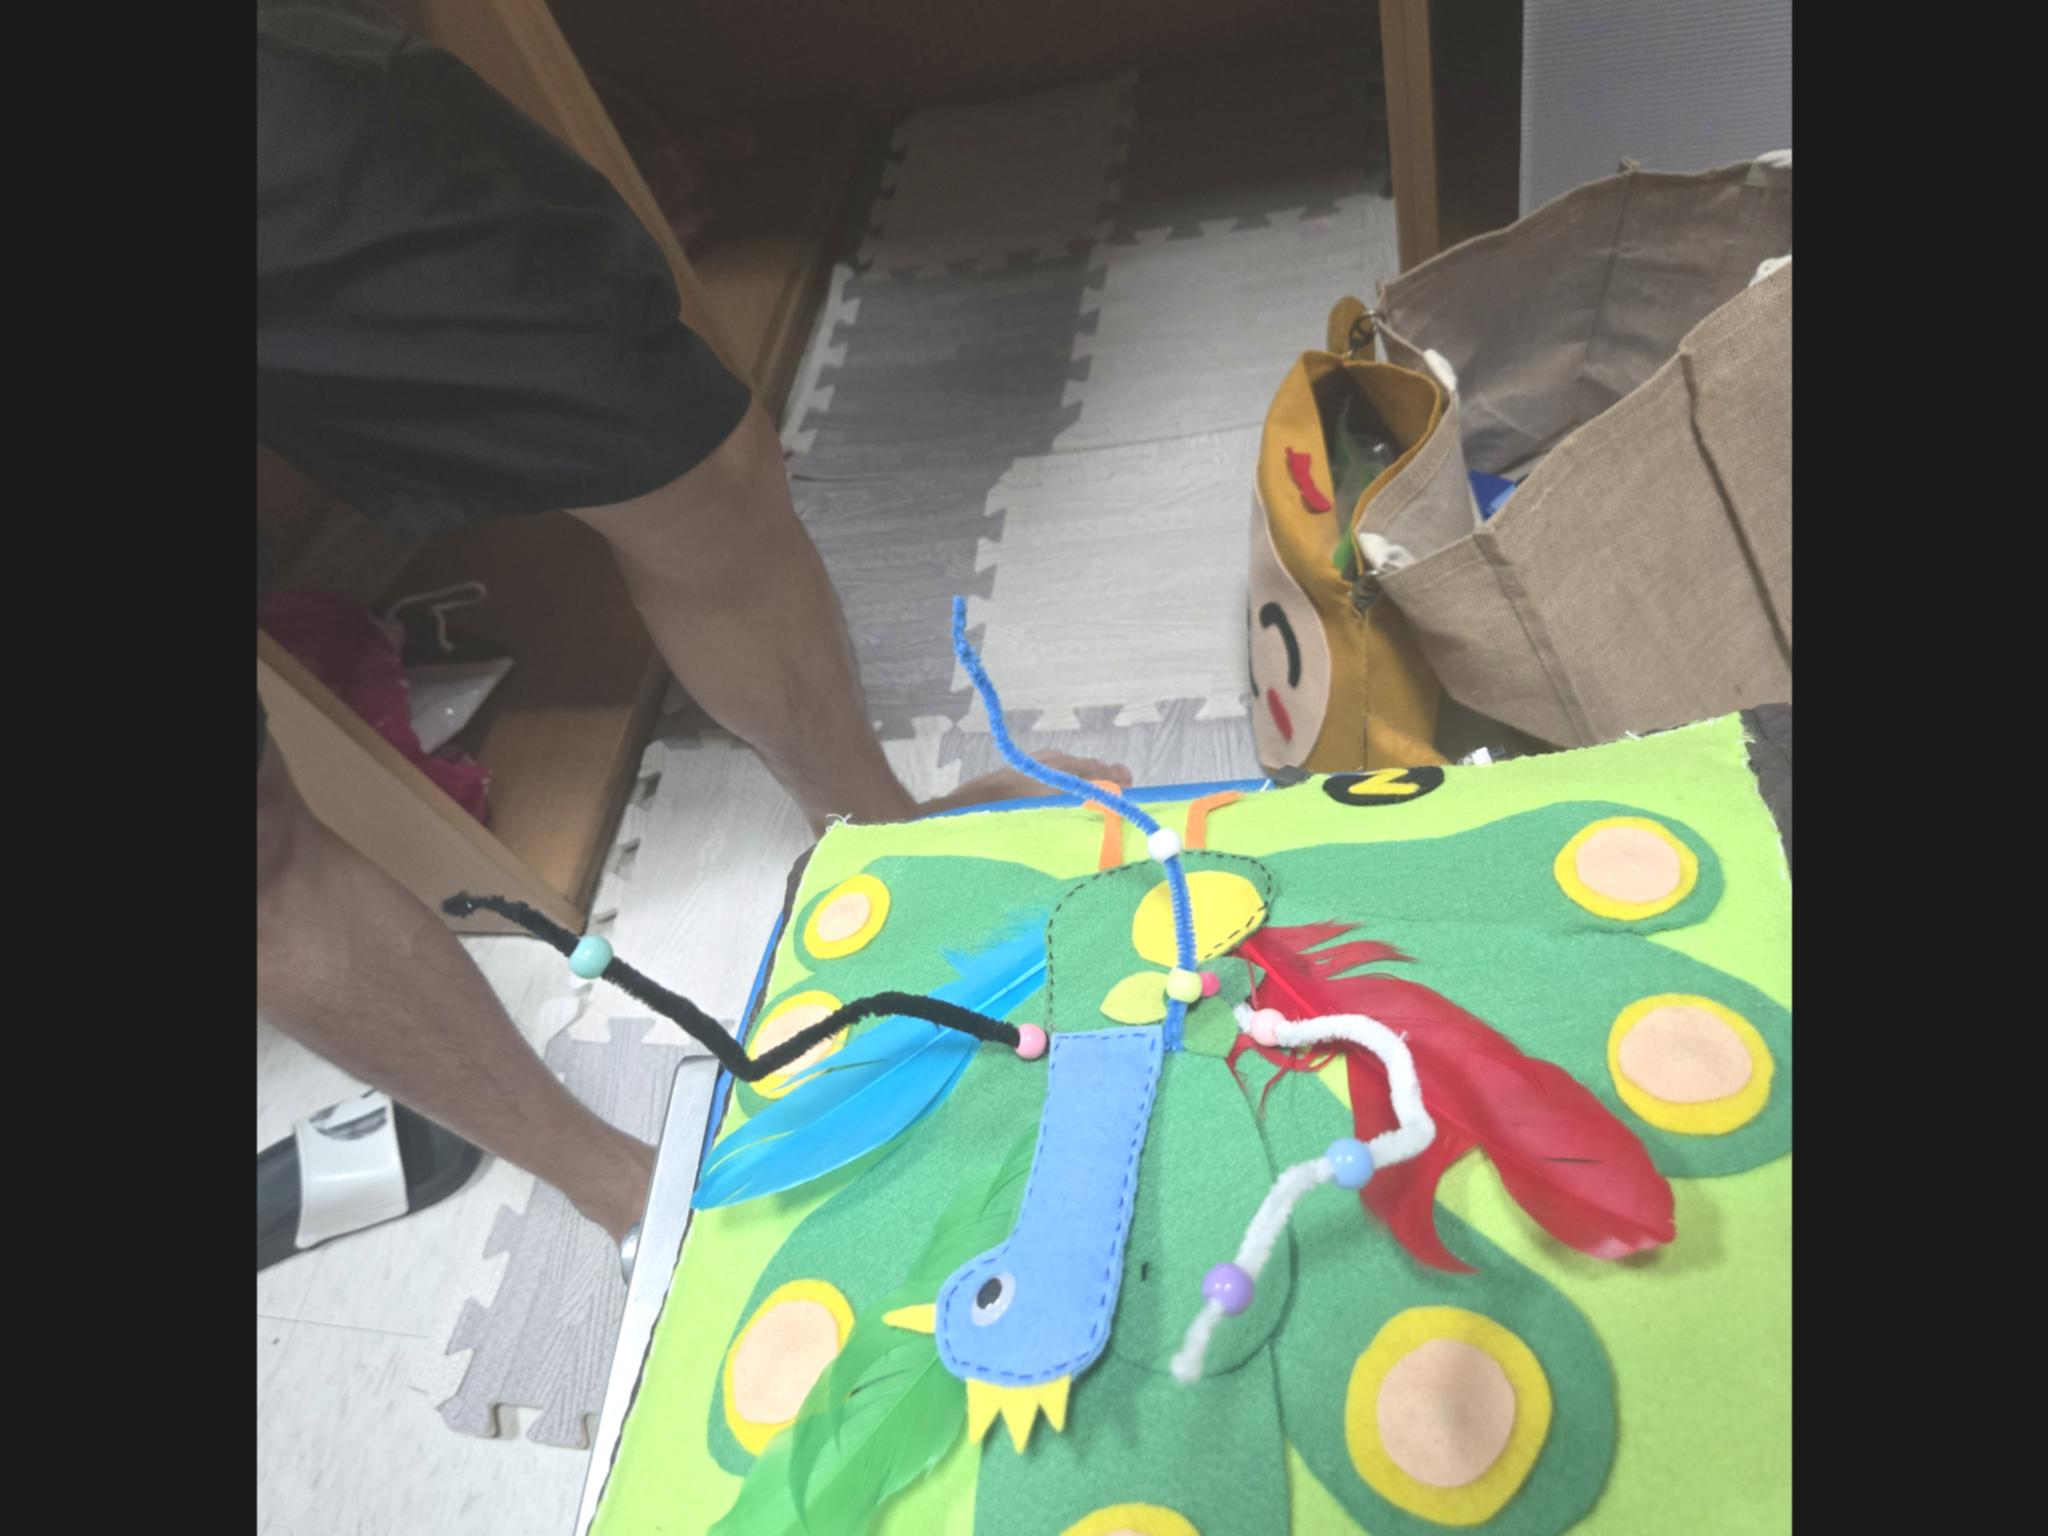bead: (545, 921, 622, 981), (1200, 1255, 1268, 1321), (1155, 952, 1208, 1016), (1314, 1137, 1372, 1183), (1235, 999, 1284, 1049), (1134, 820, 1188, 860), (1006, 1025, 1050, 1057)
